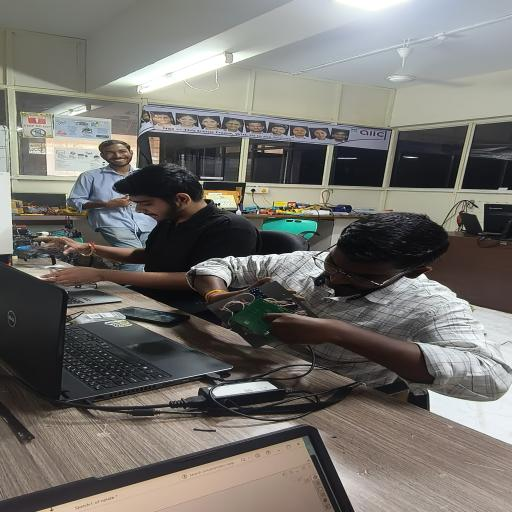survivor: (184, 211, 512, 409), (37, 162, 262, 318), (67, 139, 159, 273)
